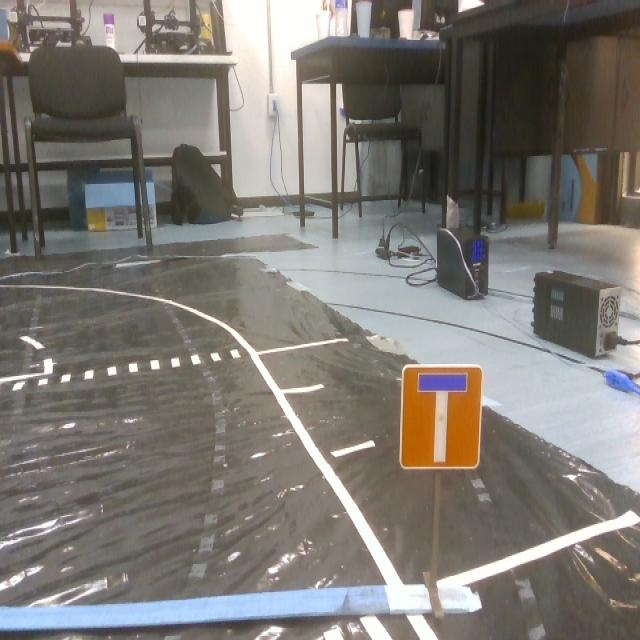stop: (402, 358, 482, 478)
